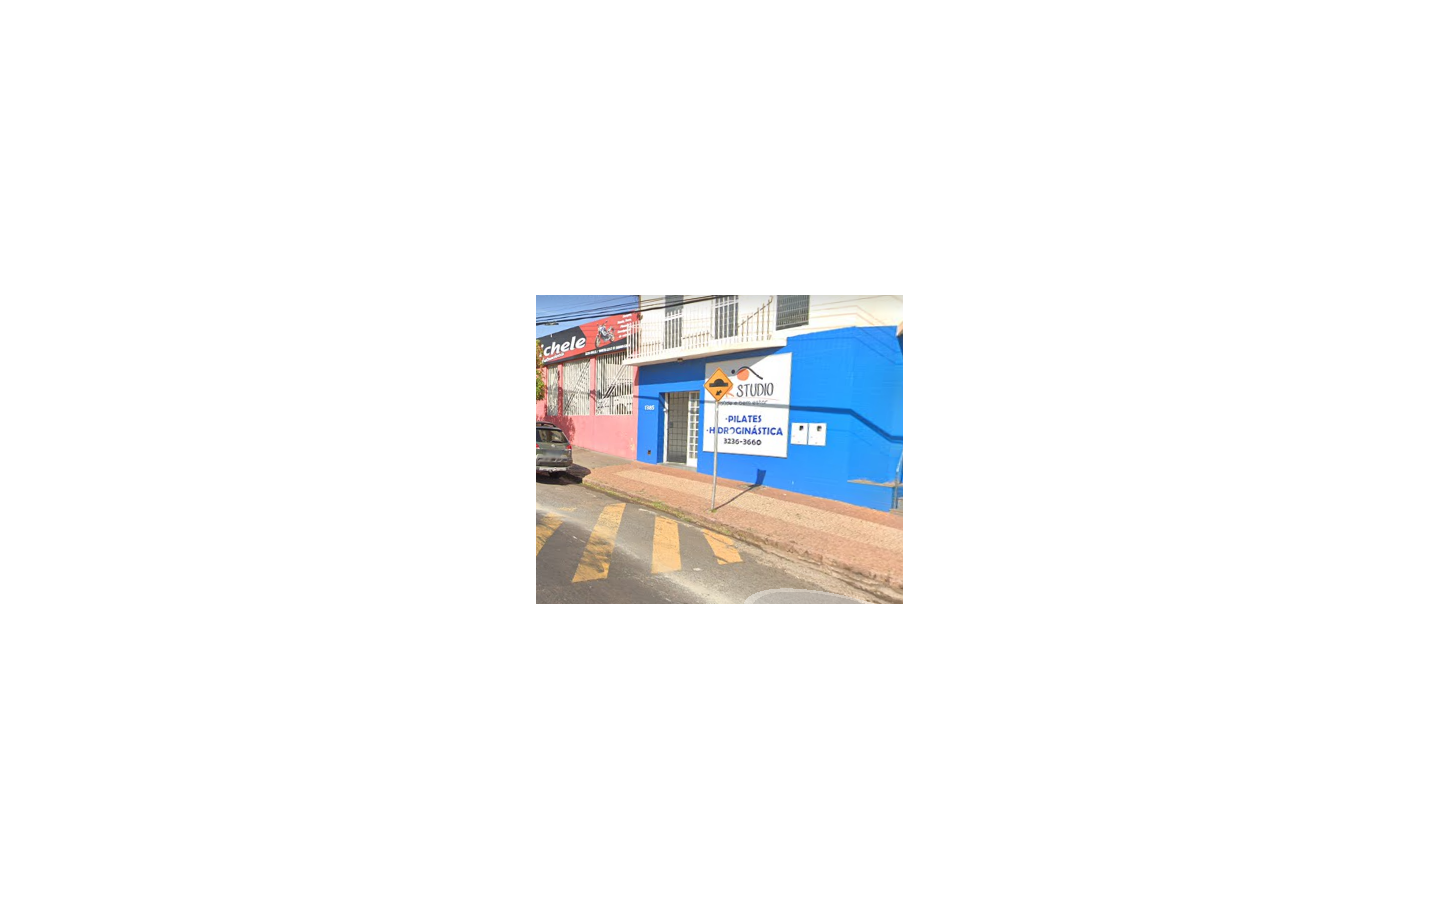lomb: (703, 368, 733, 402)
